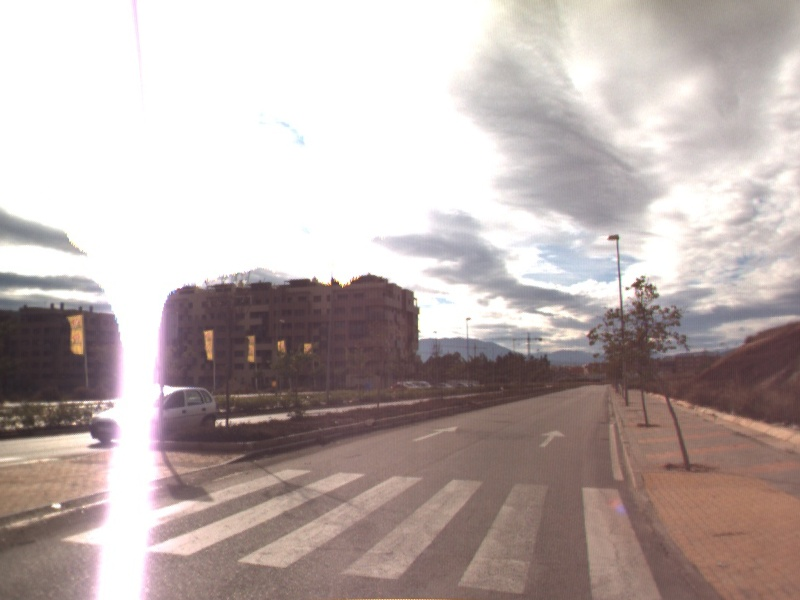STRAIGHT: (410, 424, 460, 443), (537, 428, 568, 449)
